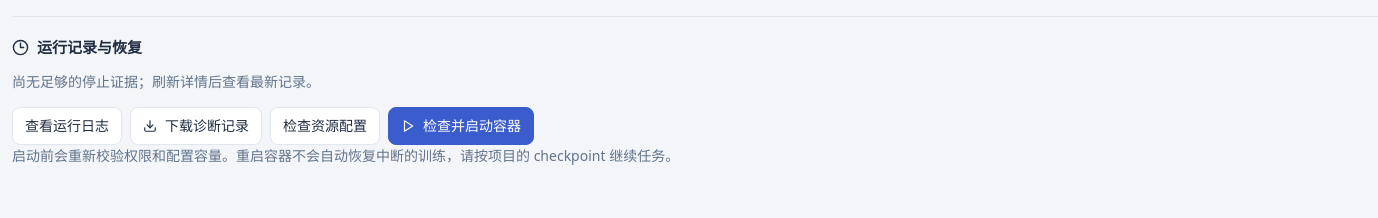
Scenario: denied recovery shows a usable error and unlocks actions without claiming success
Click the button "检查并启动容器".
click(461, 126)  # box [388,107,534,145]
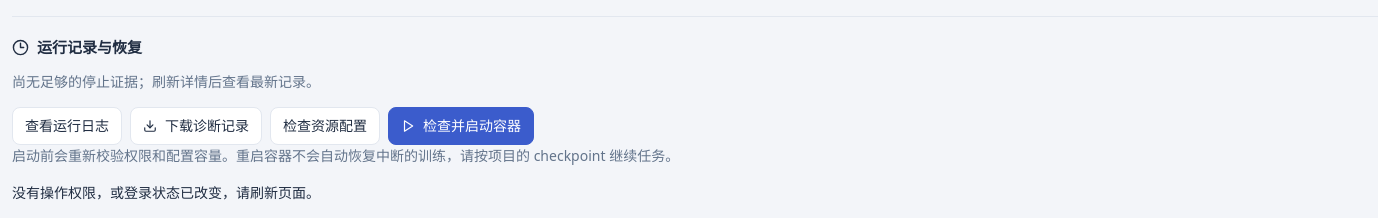
Expected: the message shows "没有操作权限", [12,183,320,202]
